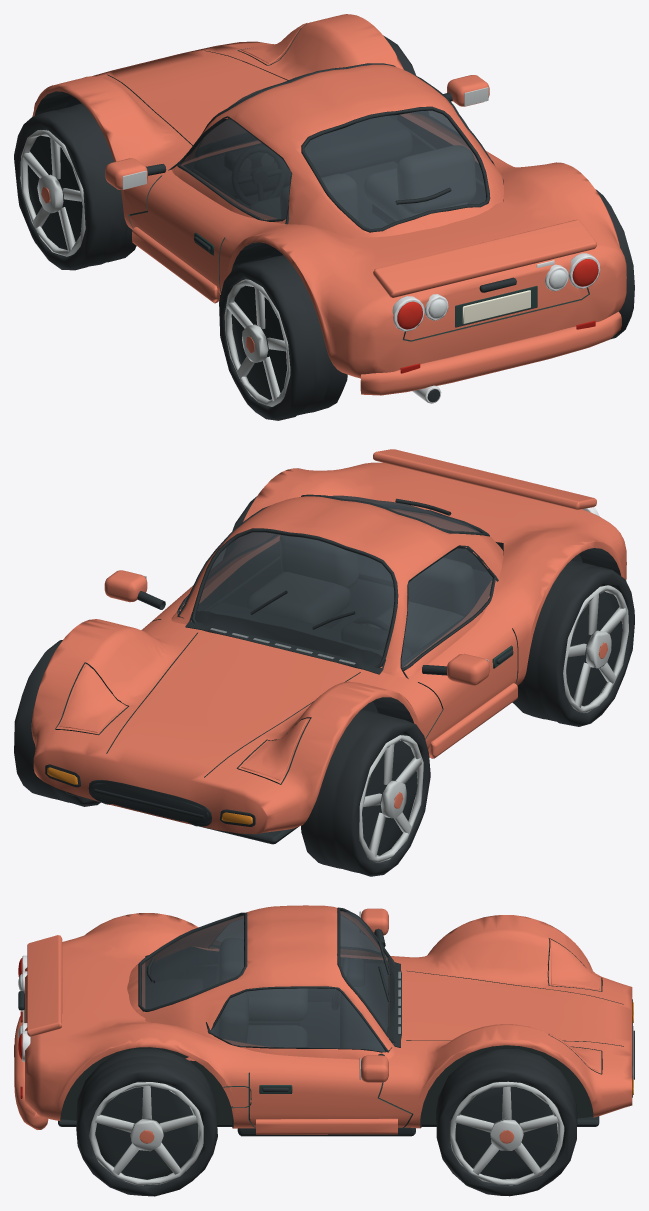
The model's file is raijin_lod2.fbx.
3 renders of one model, top to bottom at view 1: azimuth 30°, elevation 25°; view 2: azimuth 150°, elevation 25°; view 3: azimuth 270°, elevation 25°, orthographic. The views are drawn at different scales.
Visible parts, largest first — view 1: Body, Wheel_RL_Mesh, Wheel_FL_Mesh, Wheel_RR_Mesh; view 2: Body, Wheel_FL_Mesh, Wheel_RL_Mesh, Wheel_FR_Mesh; view 3: Body, Wheel_RR_Mesh, Wheel_FR_Mesh.
Part boxes in pixels (box(x1,y1,x2,y2)): Body: box(32, 14, 626, 403); Wheel_RL_Mesh: box(219, 255, 347, 420); Wheel_FL_Mesh: box(14, 103, 136, 270); Wheel_RR_Mesh: box(595, 189, 634, 339); Body: box(31, 449, 626, 844); Wheel_FL_Mesh: box(301, 709, 430, 876); Wheel_RL_Mesh: box(512, 560, 634, 726); Wheel_FR_Mesh: box(14, 640, 100, 806); Body: box(14, 905, 634, 1136); Wheel_RR_Mesh: box(76, 1048, 217, 1196); Wheel_FR_Mesh: box(436, 1048, 577, 1196).
Size of the model in its own units: 230 by 132 by 376.
